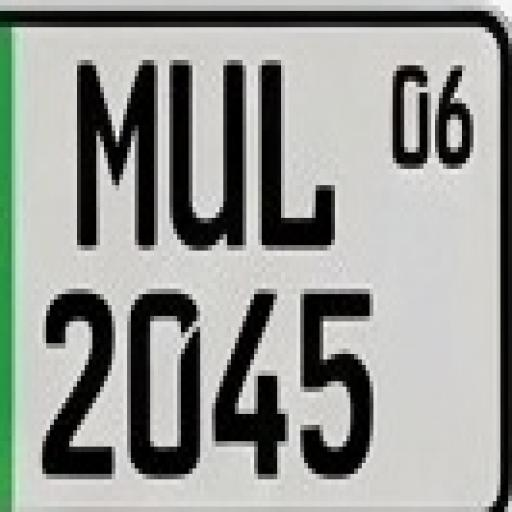0: (127, 295, 199, 478)
2: (33, 286, 119, 485)
4: (215, 288, 279, 470)
5: (298, 284, 377, 480)
L: (260, 50, 350, 262)
M: (70, 59, 159, 258)
U: (168, 50, 251, 263)
